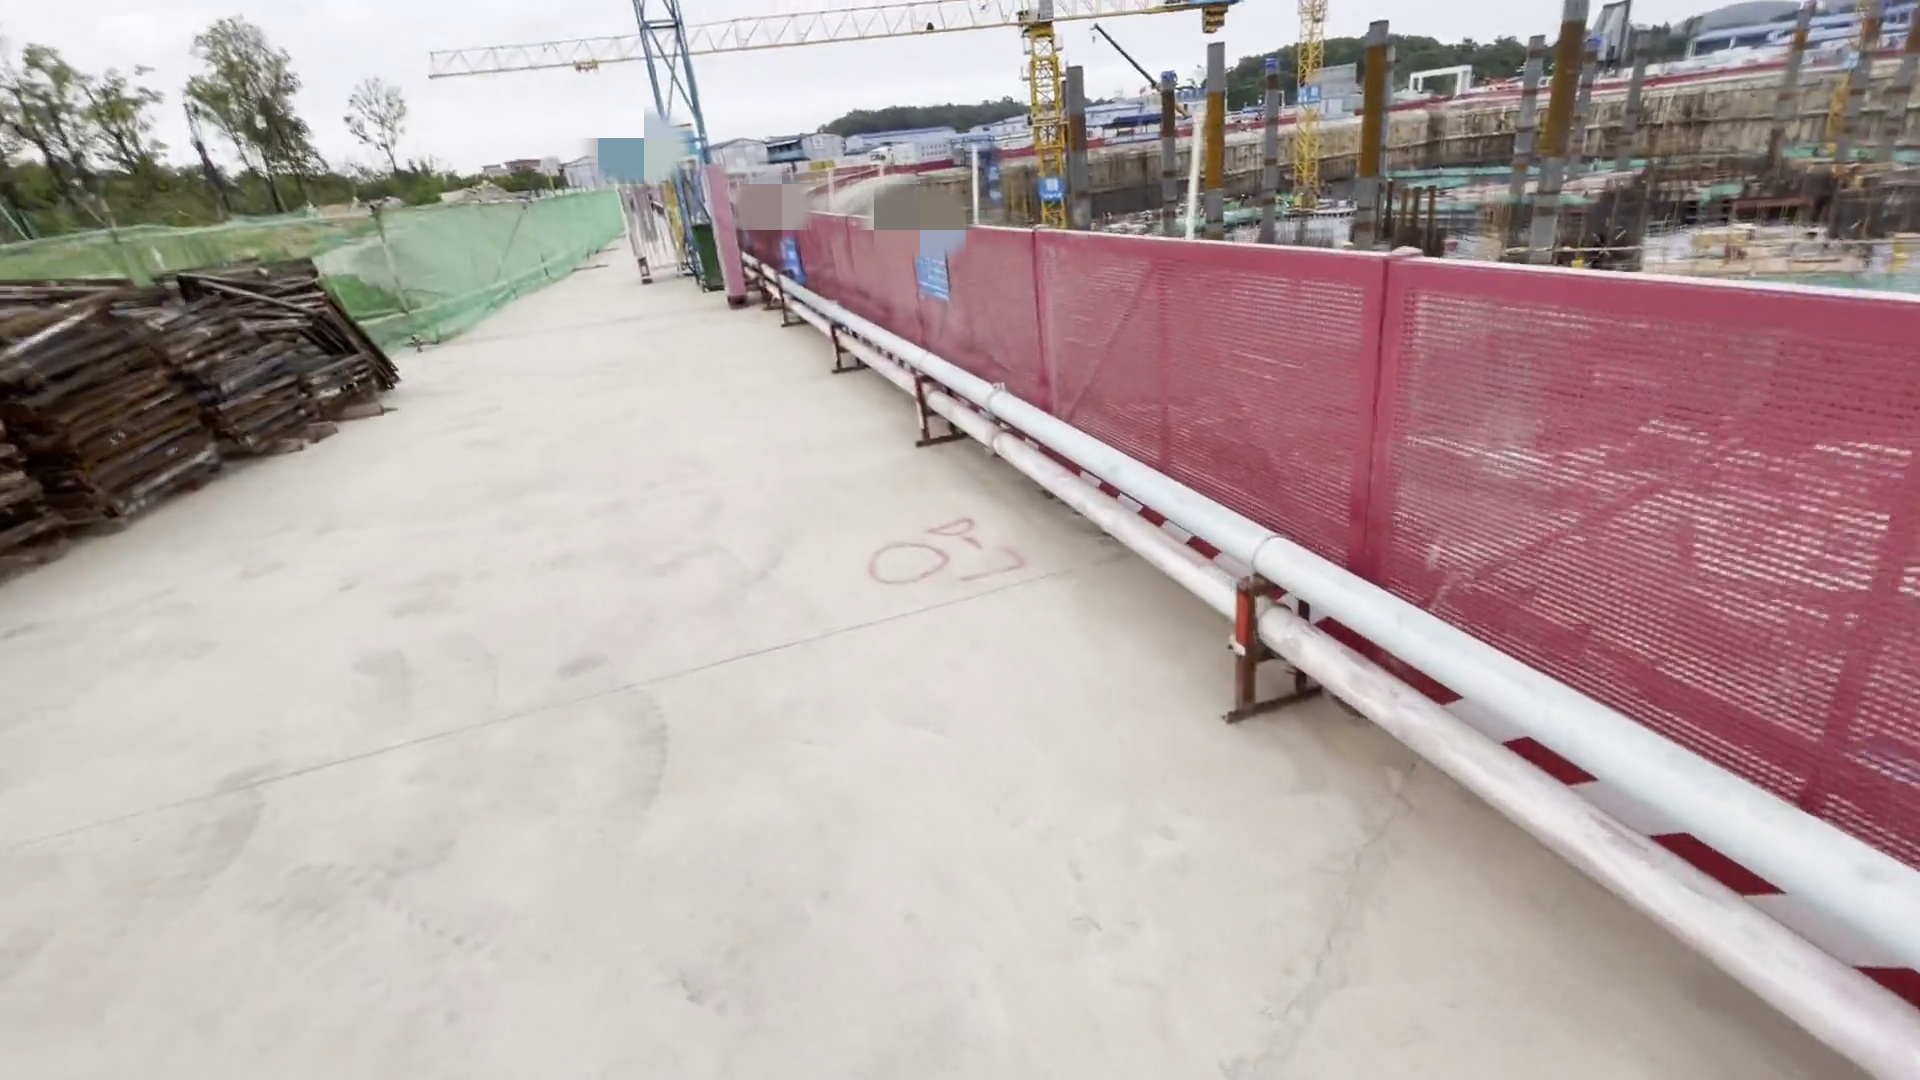fence: (703, 196, 1859, 814)
slogan: (770, 214, 992, 316)
